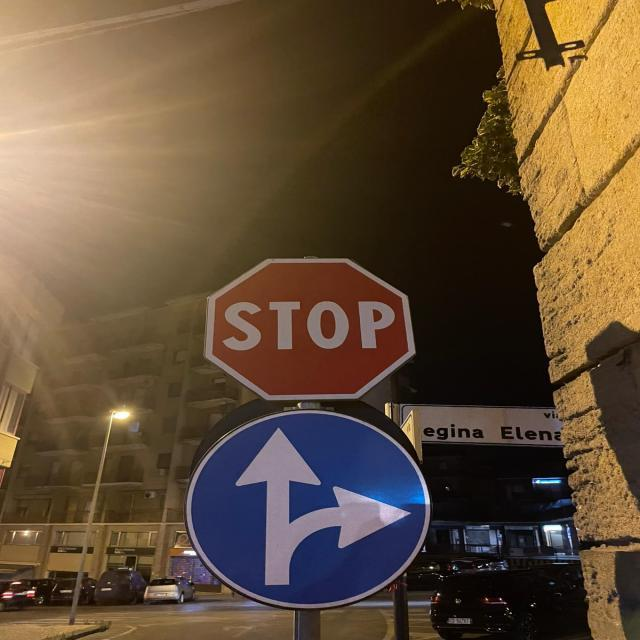prio_stop: (199, 253, 425, 403)
